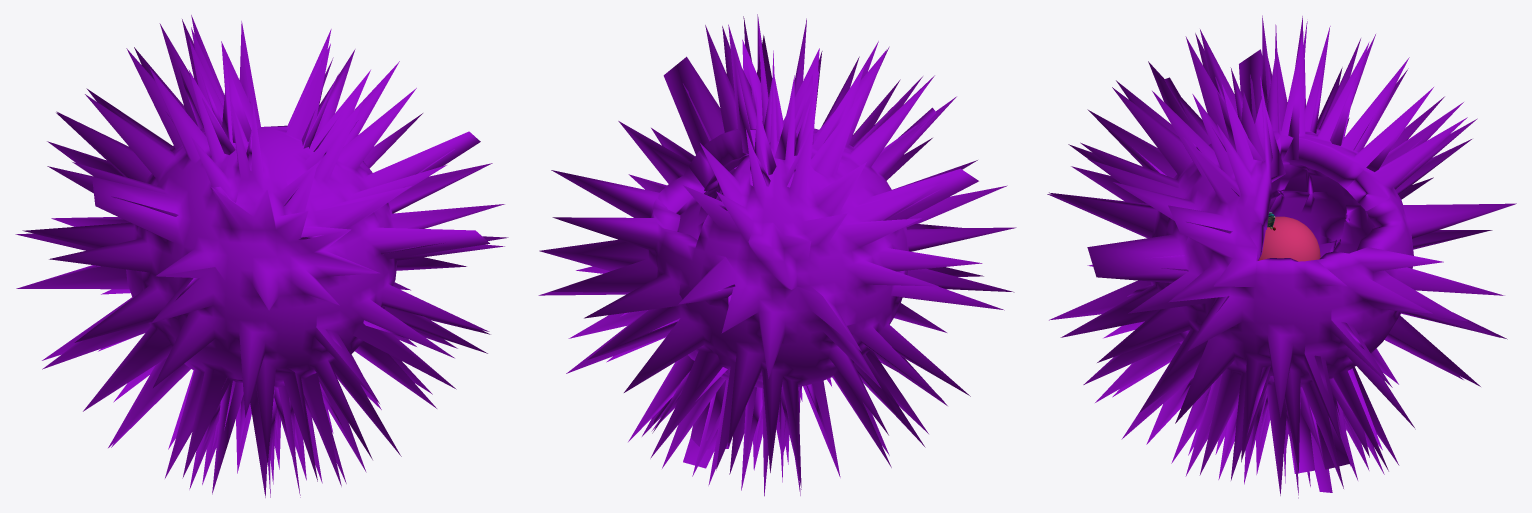
The model's file is CelulaDentritica.fbx.
The picture shows the model from 3 angles, left to right: view 1: azimuth 30°, elevation 25°; view 2: azimuth 150°, elevation 25°; view 3: azimuth 270°, elevation 25°; orthographic projection. The views are drawn at different scales.
Visible parts, largest first — view 1: Cell; view 2: Cell; view 3: Cell, Sphere.001.
Boxes of the visible parts, left/top/right/bottom form: Cell: left=15, top=15, right=508, bottom=497; Cell: left=538, top=14, right=1016, bottom=496; Cell: left=1047, top=15, right=1516, bottom=498; Sphere.001: left=1258, top=216, right=1320, bottom=261.
Size of the model in its own units: 353 by 353 by 362.
20 materials, 18 textured.
